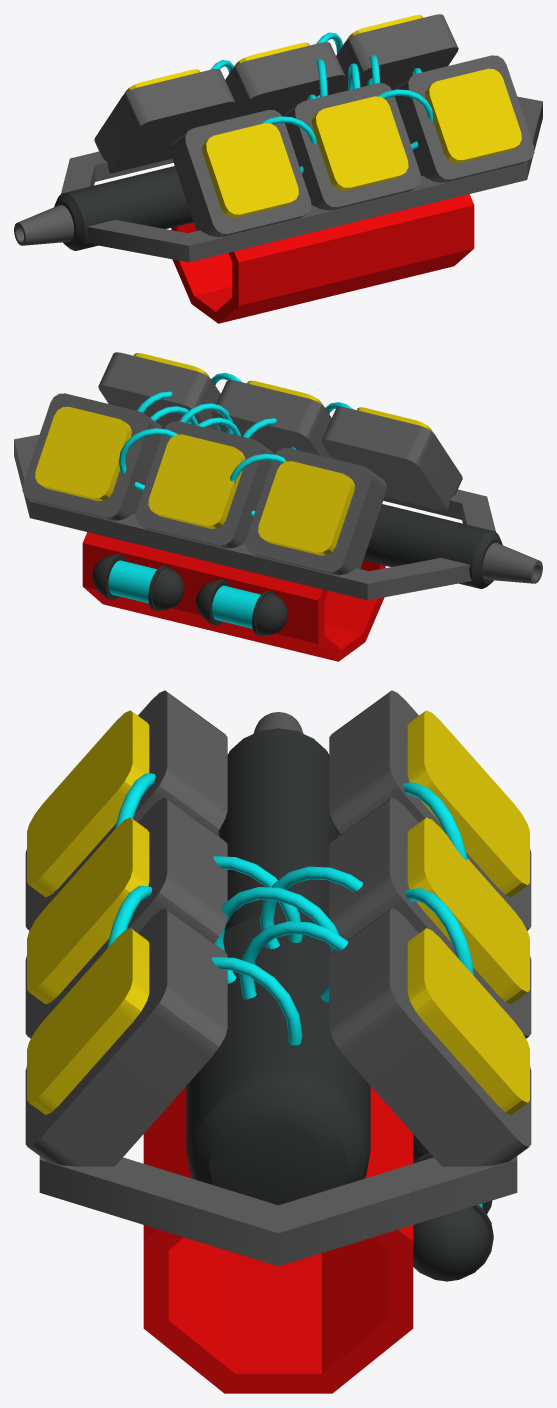
Rendered from weapon_annihilation_0_model.fbx.
3 renders of one model, top to bottom at view 1: azimuth 30°, elevation 25°; view 2: azimuth 150°, elevation 25°; view 3: azimuth 270°, elevation 25°, orthographic. The views are drawn at different scales.
Visible parts, largest first — view 1: Hand_Laser; view 2: Hand_Laser; view 3: Hand_Laser.
Part boxes in pixels (bbox=[...]): Hand_Laser: bbox=[14, 14, 542, 323]; Hand_Laser: bbox=[14, 352, 542, 661]; Hand_Laser: bbox=[25, 690, 531, 1393].
Size of the model in its own units: 22.38 by 8.82 by 9.36.
